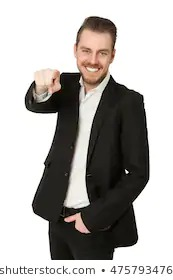F_M_suit jacket: (23, 66, 154, 249)
